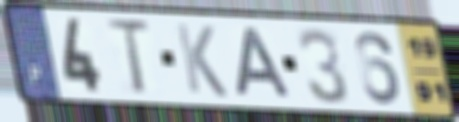3: (297, 24, 351, 107)
4: (61, 16, 105, 95)
6: (353, 29, 403, 106)
A: (235, 25, 296, 101)
K: (173, 21, 231, 100)
T: (103, 18, 154, 97)
